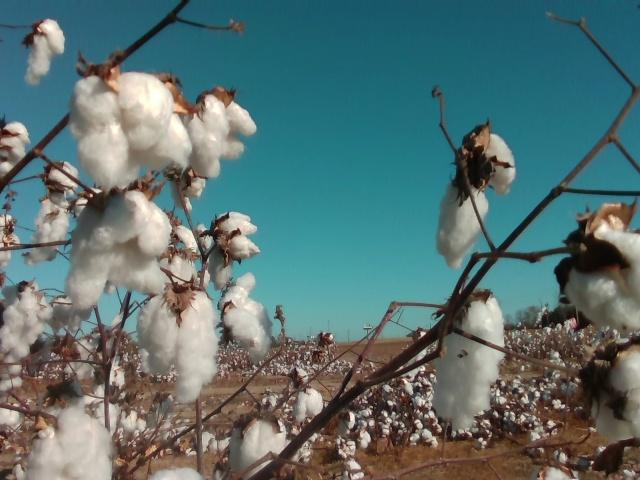cotton_ready: (72, 72, 192, 191), (66, 192, 174, 311), (435, 131, 515, 271), (430, 295, 506, 430), (137, 290, 219, 404), (566, 221, 640, 336), (24, 409, 115, 480), (186, 96, 258, 178), (0, 282, 52, 371), (594, 347, 640, 442), (222, 274, 274, 355), (226, 419, 289, 480), (177, 225, 231, 290), (24, 201, 68, 266), (25, 18, 66, 87), (211, 211, 261, 264), (99, 339, 132, 401), (62, 336, 103, 380), (0, 121, 30, 178), (98, 400, 147, 433), (158, 255, 199, 290), (172, 171, 206, 209), (0, 214, 22, 266), (48, 293, 83, 325), (47, 162, 80, 195), (292, 389, 323, 422), (73, 186, 104, 217), (145, 469, 206, 480)
